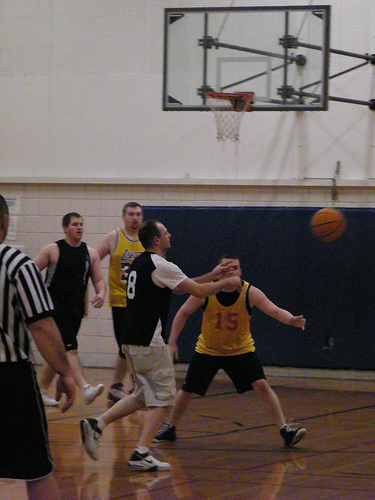basketball: (311, 208, 345, 241)
